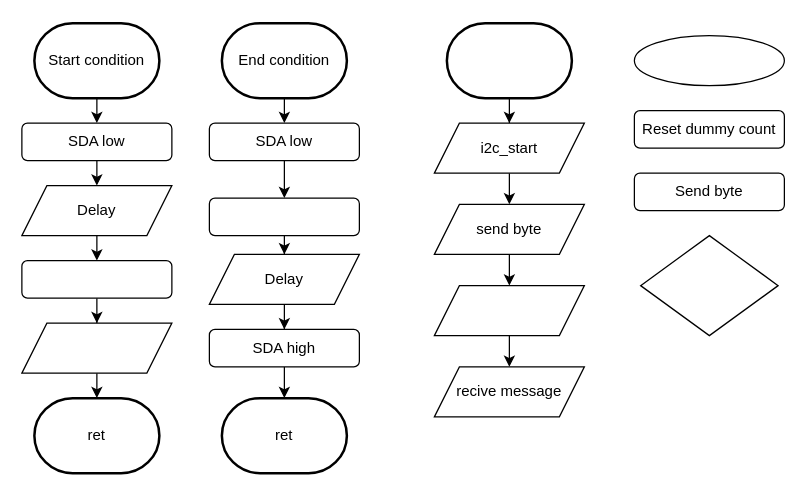
Image size: 806x495. Some labels were removed from this diagram. Here are the shapes that lost their labels. From the top down, the centre of each, then its label:
At (x=508, y=60): "main".
At (x=708, y=60): "Dummy Count".
At (x=283, y=216): "SCL high".
At (x=96, y=278): "SCL low".
At (x=708, y=285): "Sent full count?".
At (x=508, y=310): "i2c_end".
At (x=96, y=347): "Dalay".
